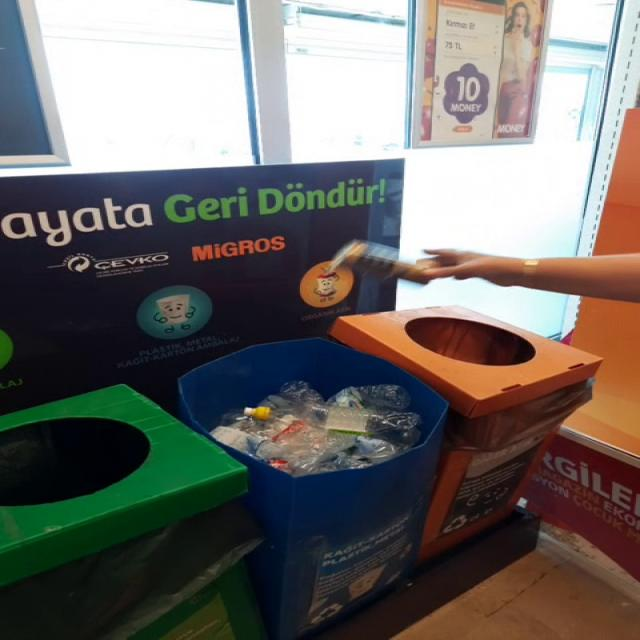bin: (179, 307, 601, 640), (1, 386, 265, 640)
metal: (331, 240, 436, 284)
